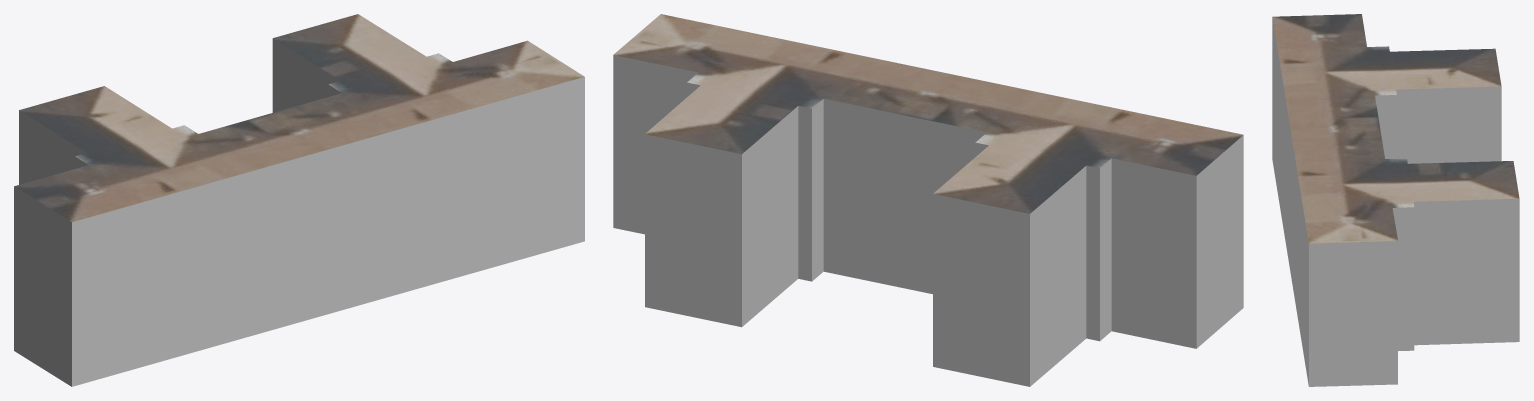
File: DEBW_0010007Tx70.gltf
The picture shows the model from 3 angles, left to right: view 1: azimuth 30°, elevation 25°; view 2: azimuth 150°, elevation 25°; view 3: azimuth 270°, elevation 25°; orthographic projection. The views are drawn at different scales.
Visible parts, largest first — view 1: Z_UP; view 2: Z_UP; view 3: Z_UP.
Part boxes in pixels (x1,y1,x2,y2): Z_UP: (14,14,584,386); Z_UP: (613,14,1243,386); Z_UP: (1272,14,1519,386).
Bounding box in the file's own units: 53.25 × 15.51 × 24.22.
2 materials, 1 textured.
